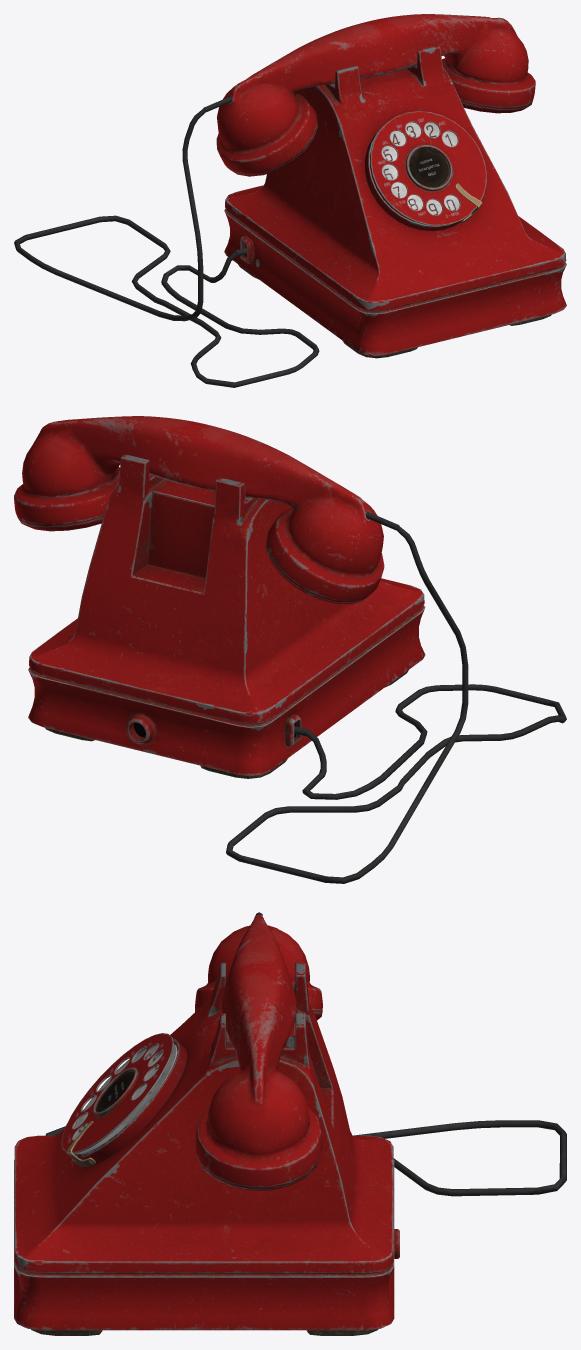
The model's file is RedTelephone.fbx.
3 renders of one model, top to bottom at view 1: azimuth 30°, elevation 25°; view 2: azimuth 150°, elevation 25°; view 3: azimuth 270°, elevation 25°, orthographic. The views are drawn at different scales.
Parts seen in each view (by area): view 1: Antique 1930s Rotary Telephone Emergency Red; view 2: Antique 1930s Rotary Telephone Emergency Red; view 3: Antique 1930s Rotary Telephone Emergency Red.
Boxes of the visible parts, bbox=[...] form: Antique 1930s Rotary Telephone Emergency Red: bbox=[14, 14, 566, 387]; Antique 1930s Rotary Telephone Emergency Red: bbox=[14, 416, 566, 883]; Antique 1930s Rotary Telephone Emergency Red: bbox=[14, 912, 566, 1335].
Bounding box in the file's own units: 33.94 × 19.97 × 31.91.
